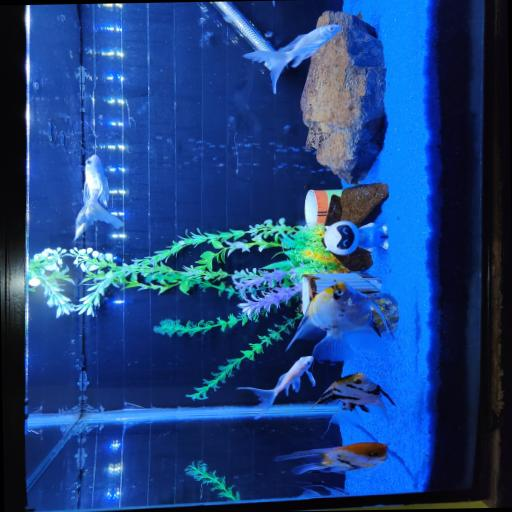Fish: (287, 281, 393, 361), (243, 24, 341, 92), (238, 355, 315, 418), (315, 372, 395, 424), (75, 154, 123, 239), (276, 442, 387, 473)
